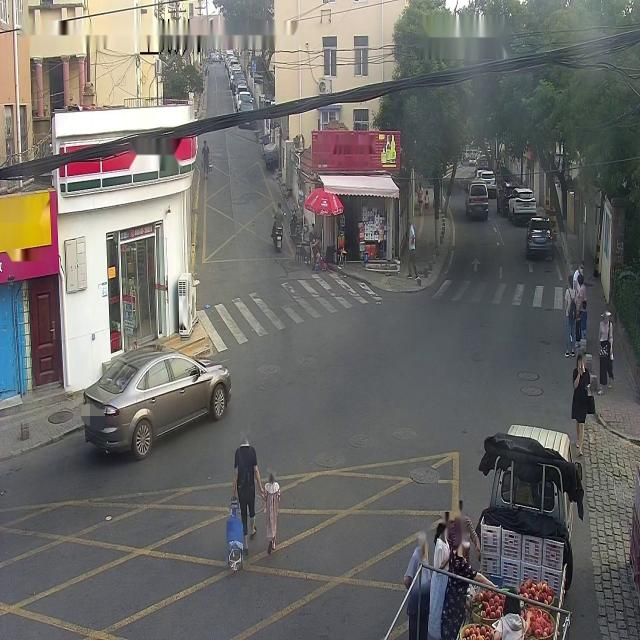car: (454, 420, 576, 636)
fixed_stall: (453, 513, 564, 637)
sunshade: (318, 174, 399, 197), (304, 187, 343, 216)
